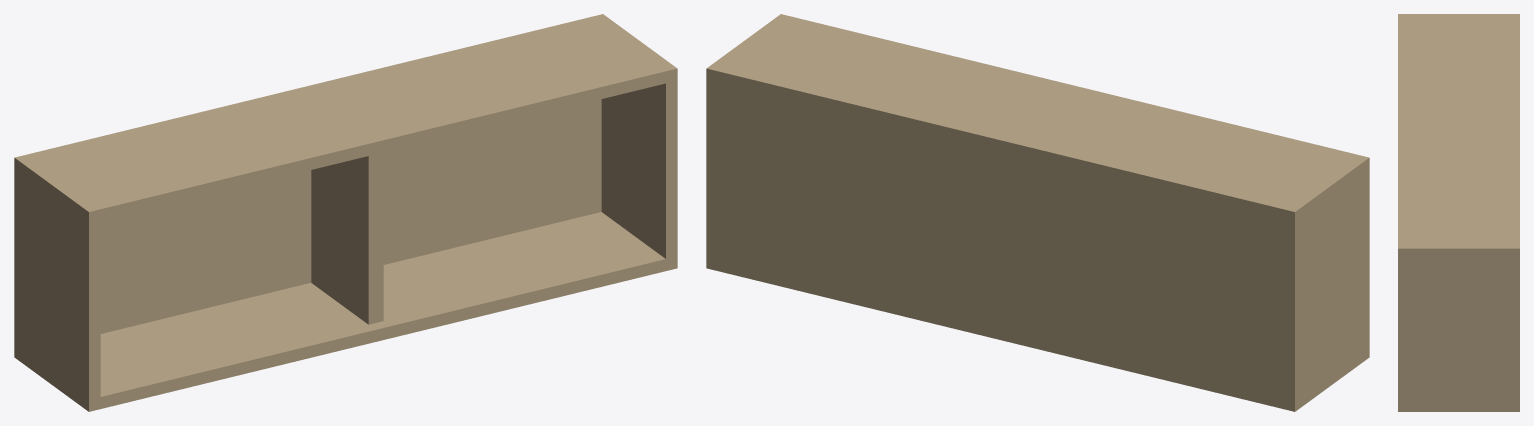
The model's file is SM_Locker_02.fbx.
3 renders of one model, left to right at view 1: azimuth 30°, elevation 25°; view 2: azimuth 150°, elevation 25°; view 3: azimuth 270°, elevation 25°, orthographic. The views are drawn at different scales.
Parts seen in each view (by area): view 1: SM_Locker_02; view 2: SM_Locker_02; view 3: SM_Locker_02.
Boxes of the visible parts, left/top/right/bottom form: SM_Locker_02: left=14, top=14, right=677, bottom=411; SM_Locker_02: left=706, top=14, right=1369, bottom=411; SM_Locker_02: left=1398, top=14, right=1519, bottom=411.
Bounding box in the file's own units: 110 × 35.73 × 24.14.
